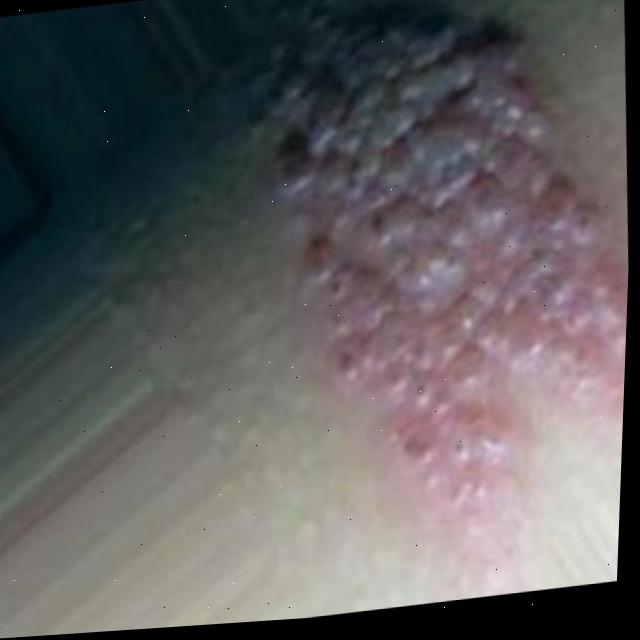Shingles: (227, 0, 640, 548)
